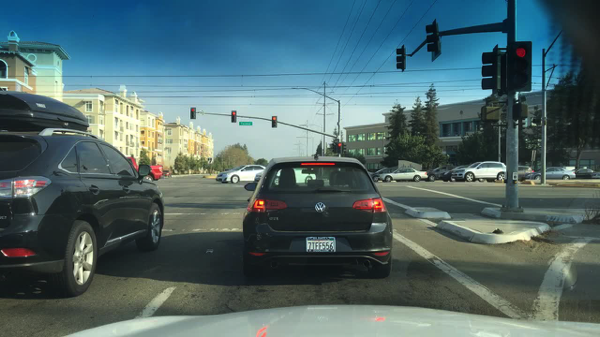car: (0, 91, 166, 297), (242, 155, 391, 279), (450, 160, 508, 183), (216, 164, 268, 184), (126, 158, 162, 184), (380, 167, 428, 182), (525, 166, 574, 180), (423, 165, 455, 183), (367, 166, 391, 183), (444, 165, 464, 181), (518, 164, 532, 181), (576, 168, 596, 179), (256, 170, 266, 184), (163, 169, 172, 179)
traffic light: (508, 40, 532, 93), (478, 46, 501, 96), (424, 20, 441, 62), (480, 106, 501, 125), (395, 44, 406, 73), (513, 103, 527, 123), (190, 107, 197, 120), (230, 111, 237, 123), (271, 117, 278, 129), (336, 143, 343, 155), (330, 142, 335, 155), (344, 143, 347, 154)
traffic sign: (237, 122, 253, 125)
